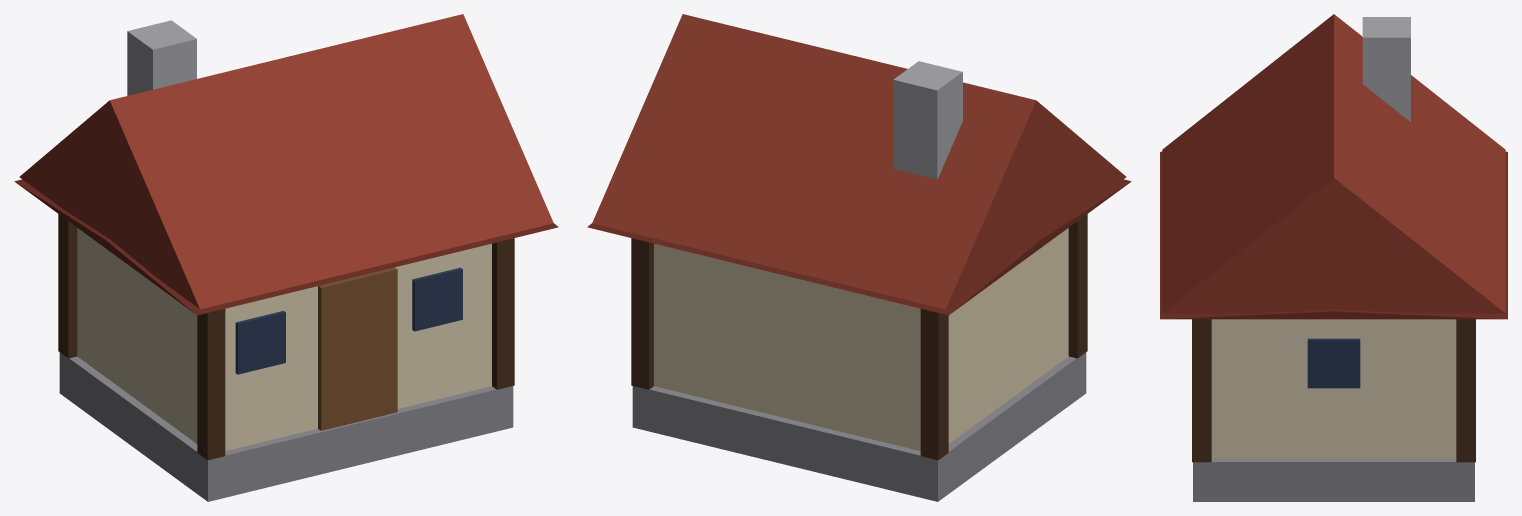
File: house.obj
3 views of the same model, side by side, from view 1: azimuth 30°, elevation 25°; view 2: azimuth 150°, elevation 25°; view 3: azimuth 270°, elevation 25° (orthographic). The views are drawn at different scales.
Visible parts, largest first — view 1: house; view 2: house; view 3: house.
Part boxes in pixels (x1=…): house: x1=14, y1=14, x2=558, y2=501; house: x1=587, y1=14, x2=1131, y2=501; house: x1=1160, y1=14, x2=1507, y2=501.
Bounding box in the file's own units: 4.5 × 4.5 × 3.95.
